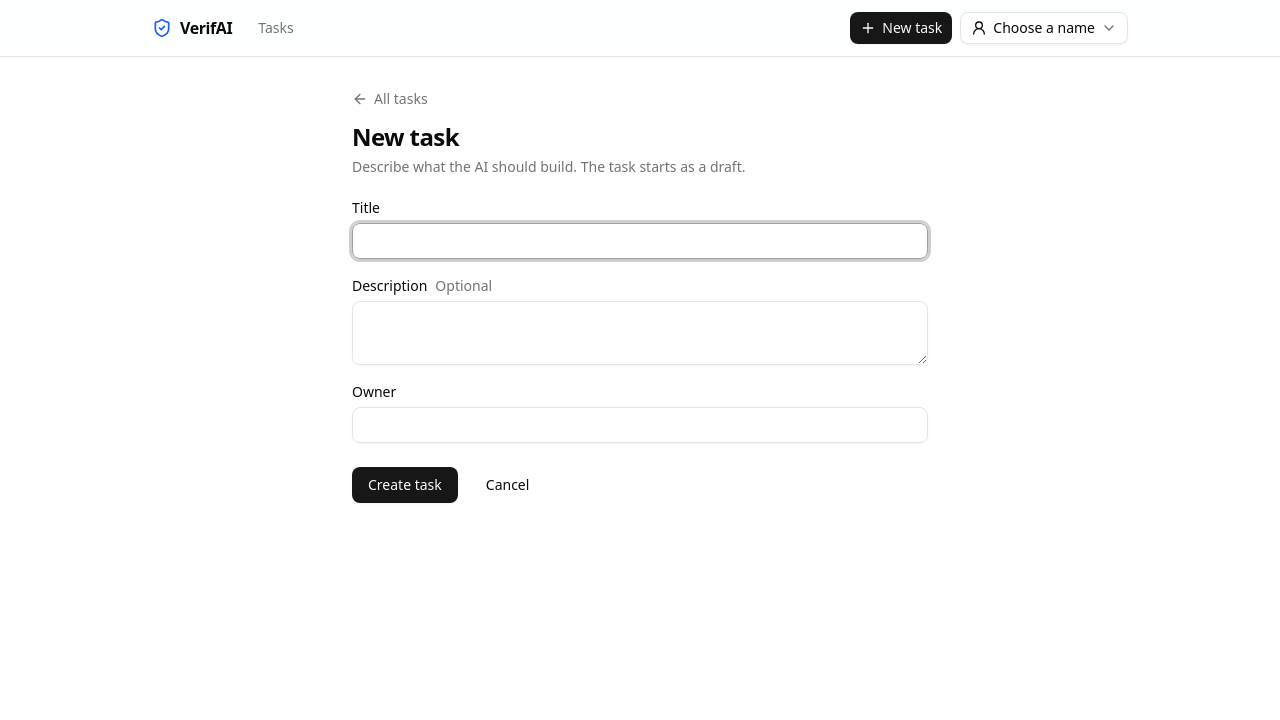
it: CreateTaskPage › shows a field error and sends no request when the title is empty
Expected: the heading "New task" is shown, [352,120,459,153]
Type "alex" into the field labelled "Owner" at [640, 425], box [352,407,928,443]
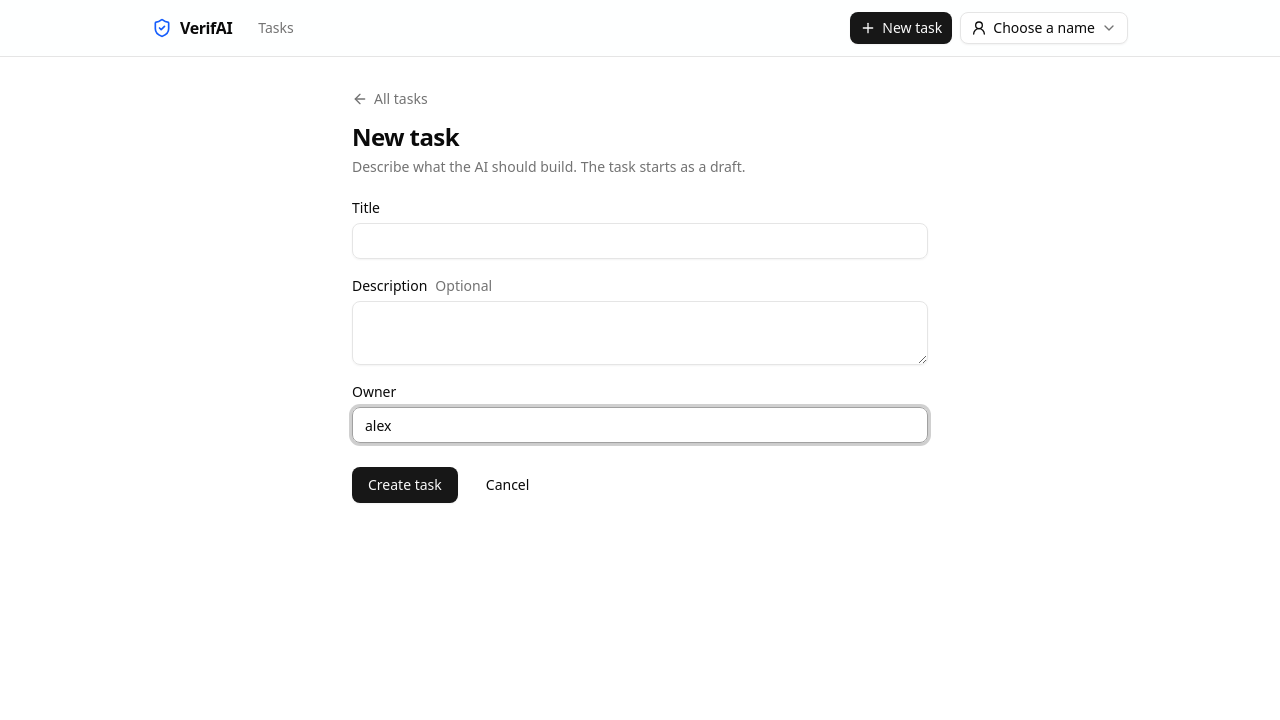
Click the button "Create task" at [405, 485], box [352,467,458,503]
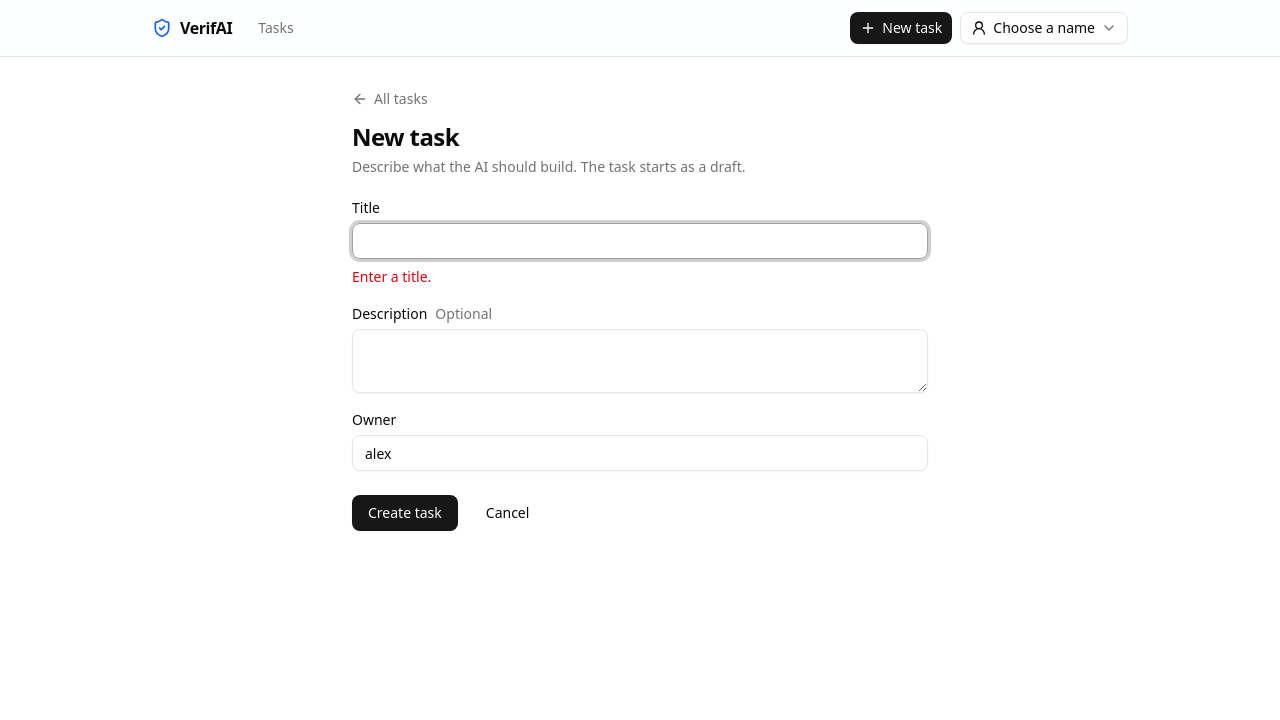
Expected: the text "Enter a title." is shown, [352,267,431,286]
